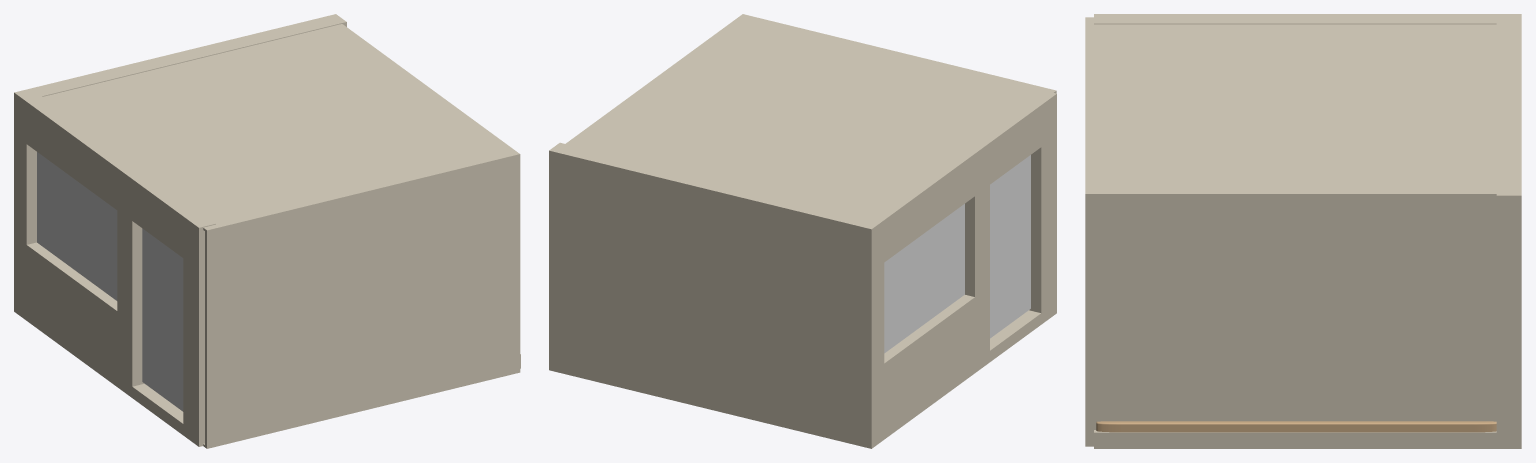
File: cmpm121project1.fbx
The picture shows the model from 3 angles, left to right: view 1: azimuth 30°, elevation 25°; view 2: azimuth 150°, elevation 25°; view 3: azimuth 270°, elevation 25°; orthographic projection. The views are drawn at different scales.
Parts seen in each view (by area): view 1: Cube, room, Plane; view 2: room, Cube, Plane; view 3: Cube, room, flooring.
Boxes of the visible parts, bbox=[...] form: Cube: bbox=[43, 24, 520, 448]; room: bbox=[14, 14, 520, 446]; Plane: bbox=[37, 152, 183, 411]; room: bbox=[549, 89, 1056, 448]; Cube: bbox=[565, 14, 1056, 216]; Plane: bbox=[884, 155, 1030, 353]; Cube: bbox=[1085, 17, 1496, 446]; room: bbox=[1094, 14, 1521, 448]; flooring: bbox=[1096, 421, 1496, 432].
Size of the model in its own units: 829 by 540 by 842.
